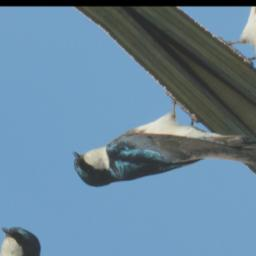Swallow: (61, 58, 256, 256)
